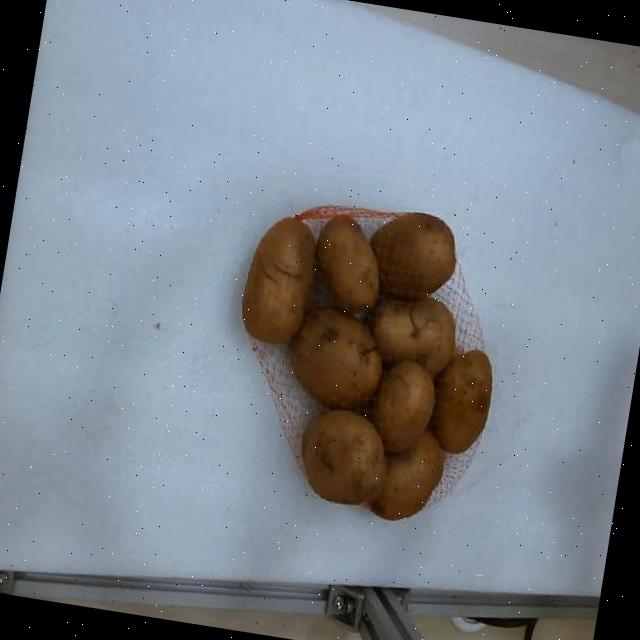potato: (291, 307, 382, 409), (242, 217, 315, 343), (302, 410, 386, 504), (371, 214, 454, 300), (370, 297, 456, 376), (370, 431, 443, 520), (430, 350, 492, 453), (373, 360, 435, 453), (317, 219, 378, 313)
